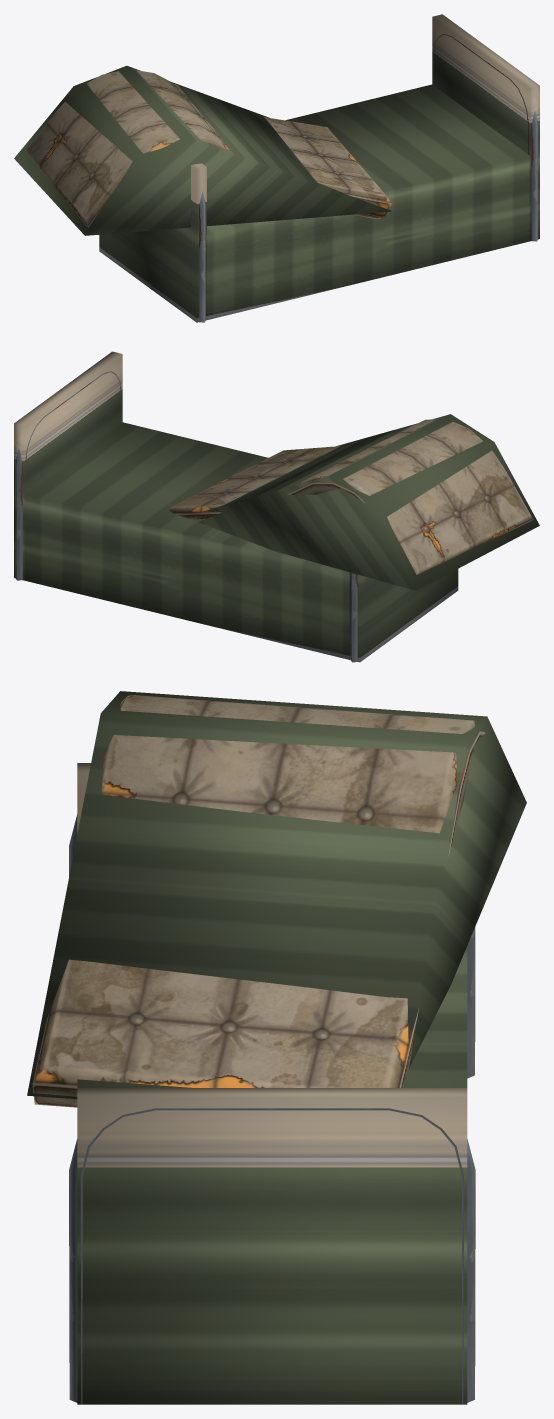
The model's file is bed03_D.fbx.
The picture shows the model from 3 angles, top to bottom: view 1: azimuth 30°, elevation 25°; view 2: azimuth 150°, elevation 25°; view 3: azimuth 270°, elevation 25°; orthographic projection. The views are drawn at different scales.
Visible parts, largest first — view 1: bed03_D_COL, bed03_D; view 2: bed03_D_COL, bed03_D; view 3: bed03_D_COL, bed03_D.
Part boxes in pixels (box(x1,y1,x2,y2)): bed03_D_COL: box(14, 14, 539, 322); bed03_D: box(26, 33, 538, 322); bed03_D_COL: box(14, 351, 539, 662); bed03_D: box(15, 371, 533, 662); bed03_D_COL: box(27, 691, 526, 1404); bed03_D: box(32, 695, 485, 1404).
Size of the model in its own units: 276 by 107 by 136.
